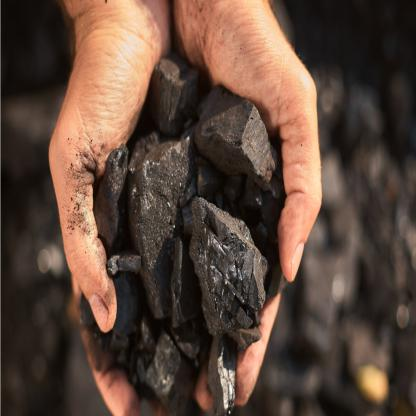Sedimentary_coal: (127, 139, 196, 324), (178, 195, 266, 339), (197, 105, 277, 234)
